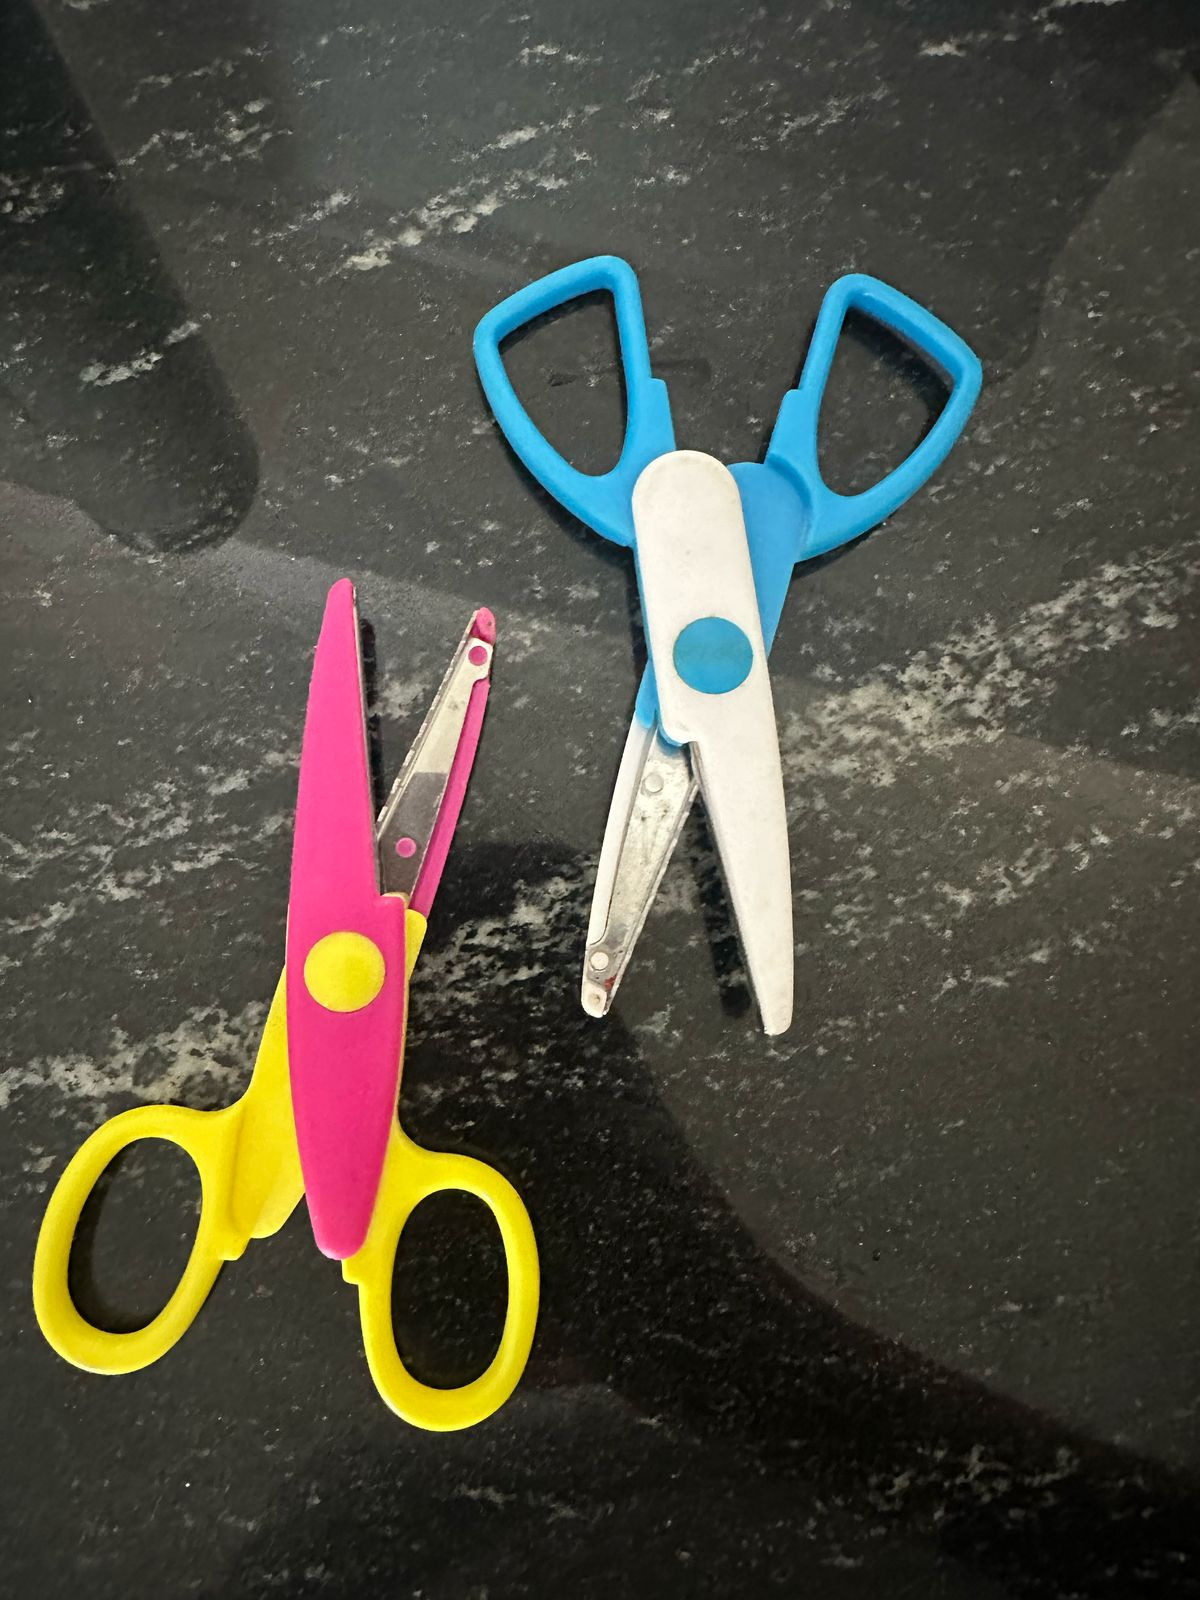tesoura: (26, 573, 543, 1441), (465, 229, 1013, 1037)
